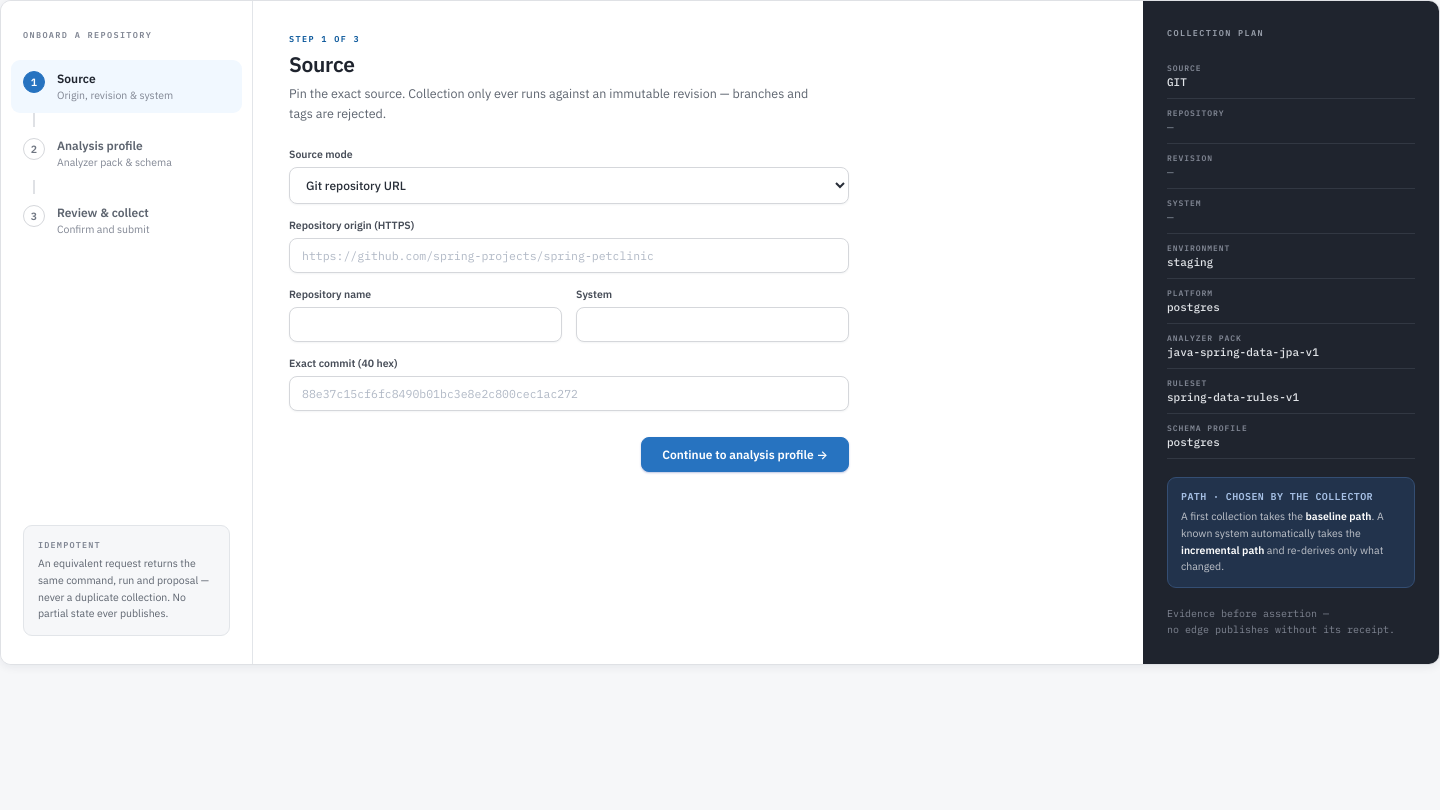
Scenario: rejects a revision that is not an exact commit and keeps the typed values
Type "https://github.com/acme/demo" into the field labelled "Repository origin (HTTPS)" at (569,256), box x1=289 y1=238 x2=849 y2=273
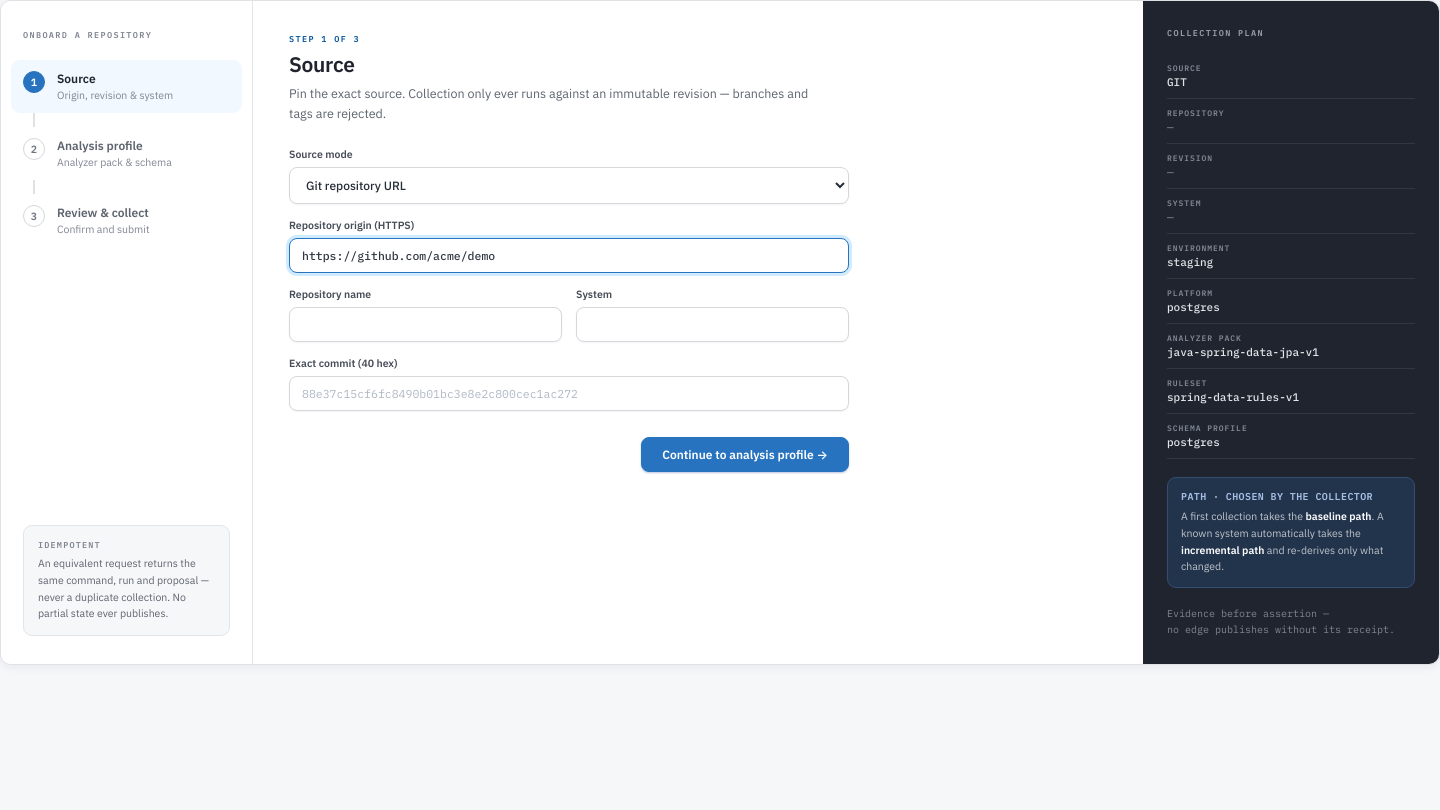
Type "demo" into the field labelled "Repository name" at (426,324), box x1=289 y1=307 x2=562 y2=342
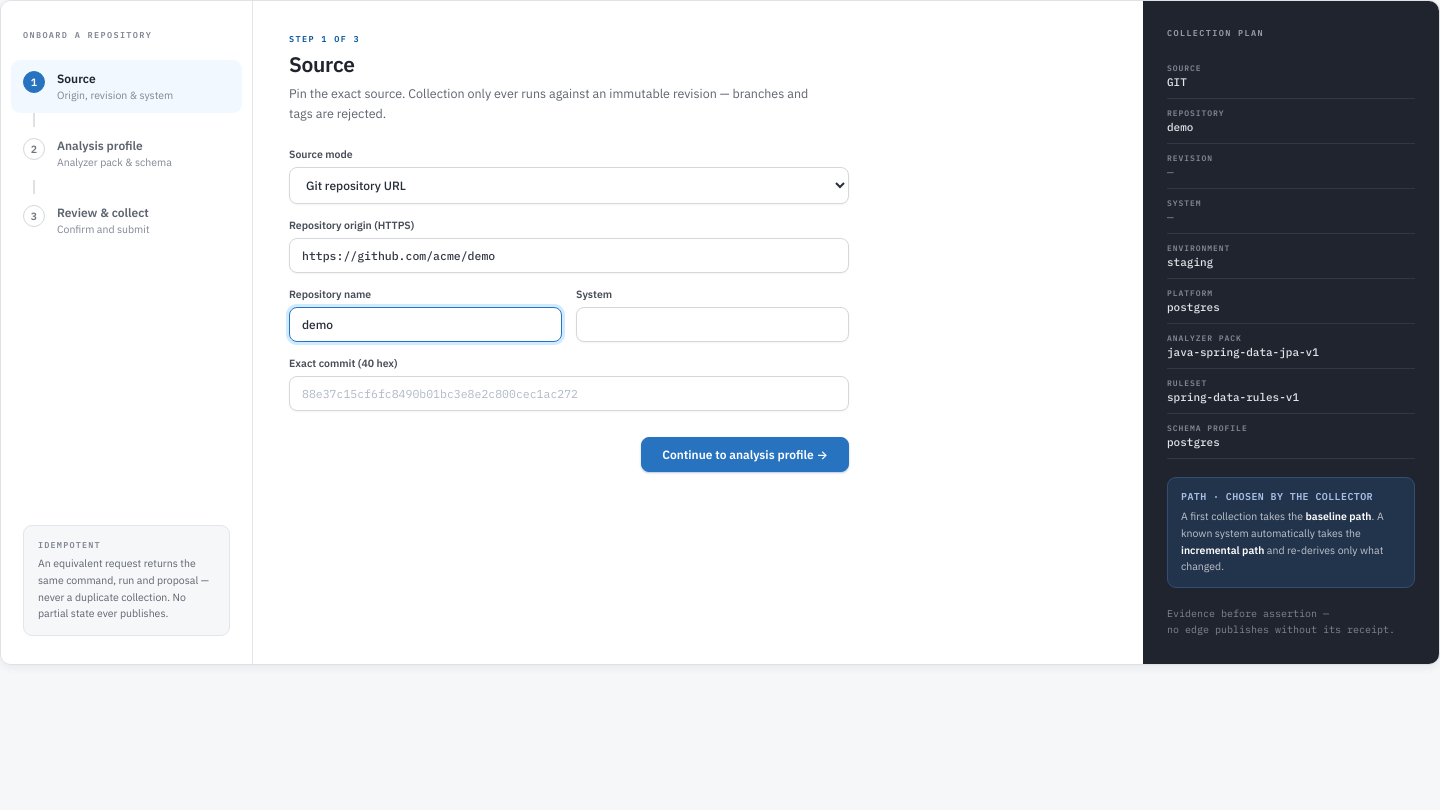
Type "main" into the field labelled "Exact commit (40 hex)" at (569,394), box x1=289 y1=376 x2=849 y2=411
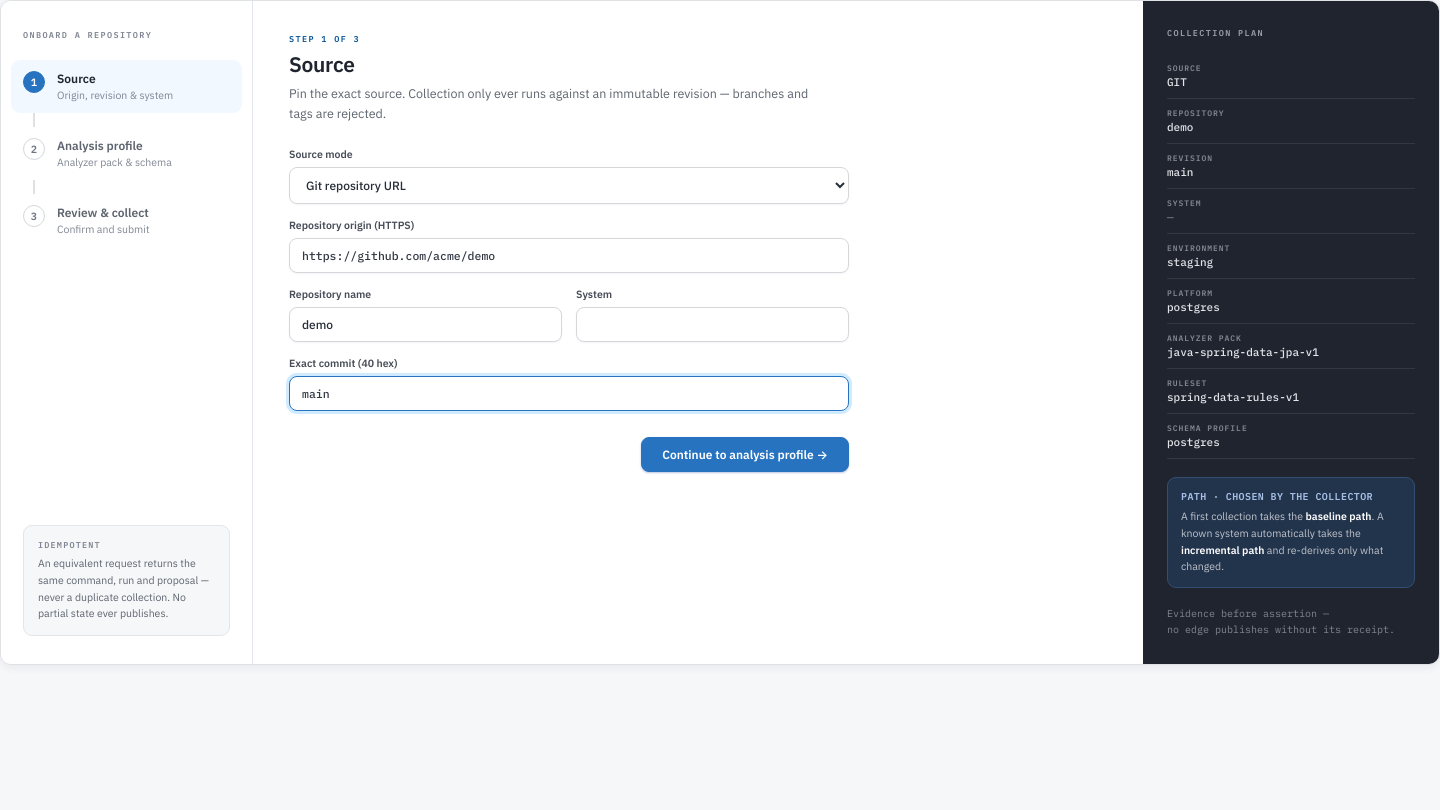
Type "payments" into the field labelled "System" at (712,324), box x1=576 y1=307 x2=849 y2=342
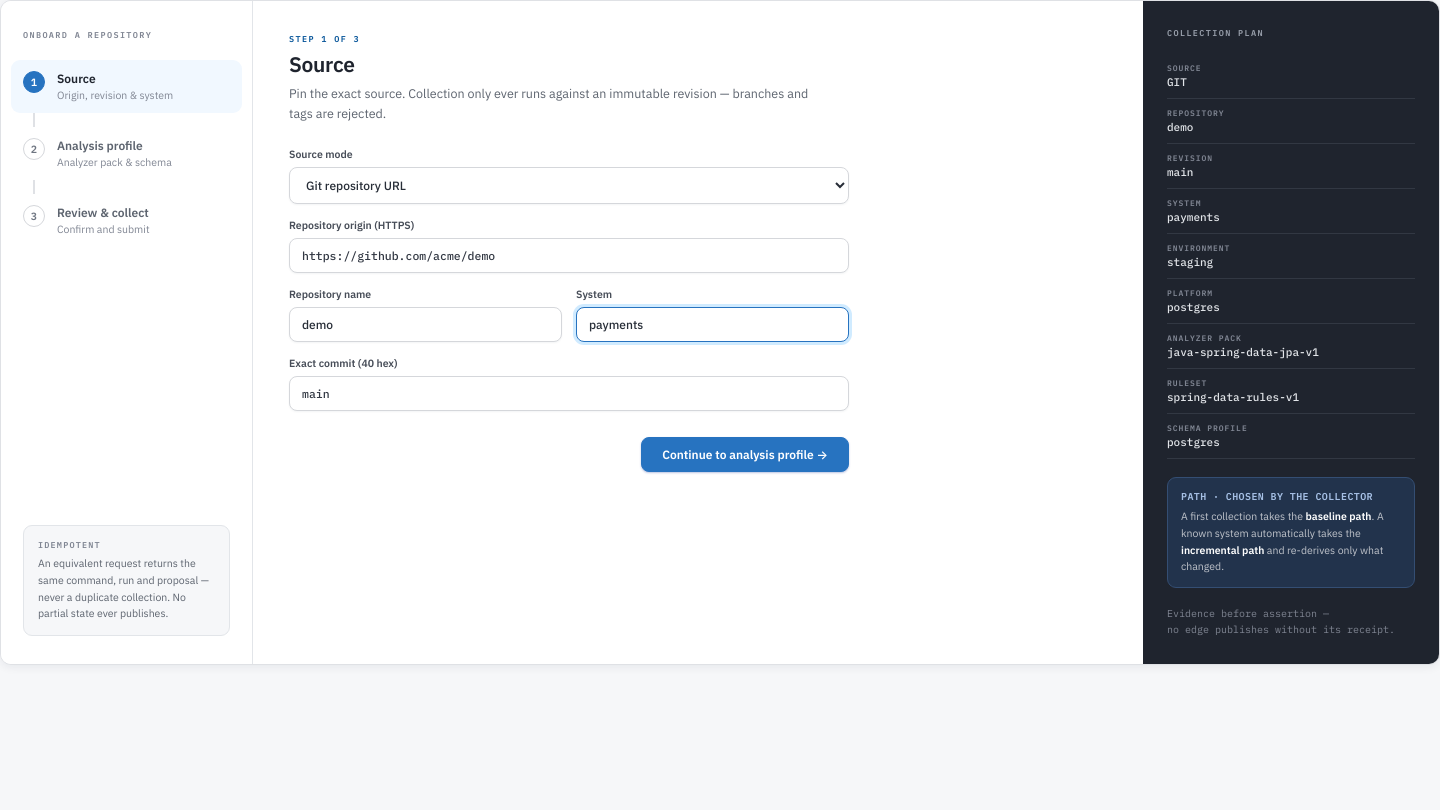
Click the button "Continue to analysis profile →" at (745,454), box x1=641 y1=437 x2=849 y2=472
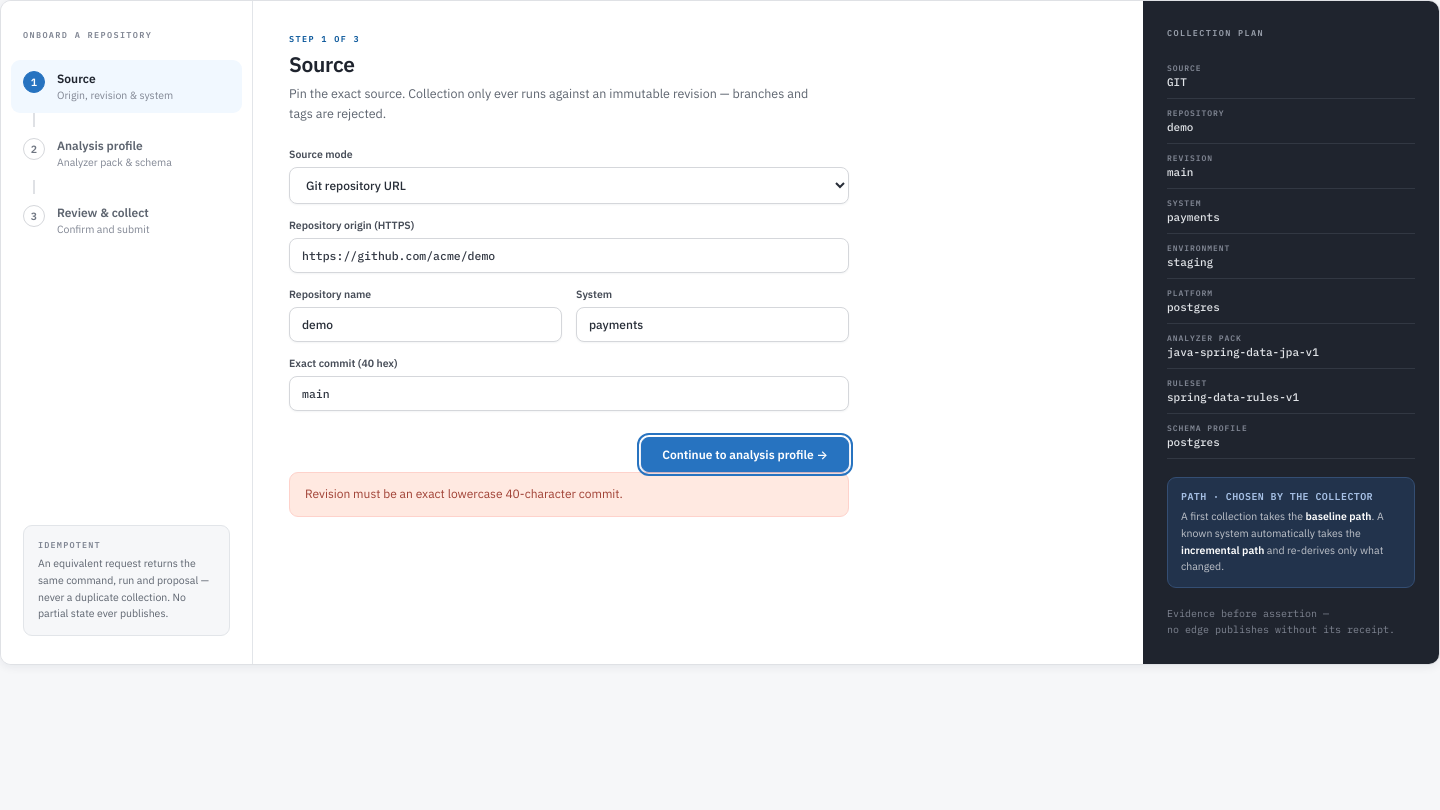
Expected: the message reads "Revision must be an exact lowercase 40-character commit.", x1=305 y1=486 x2=623 y2=501
